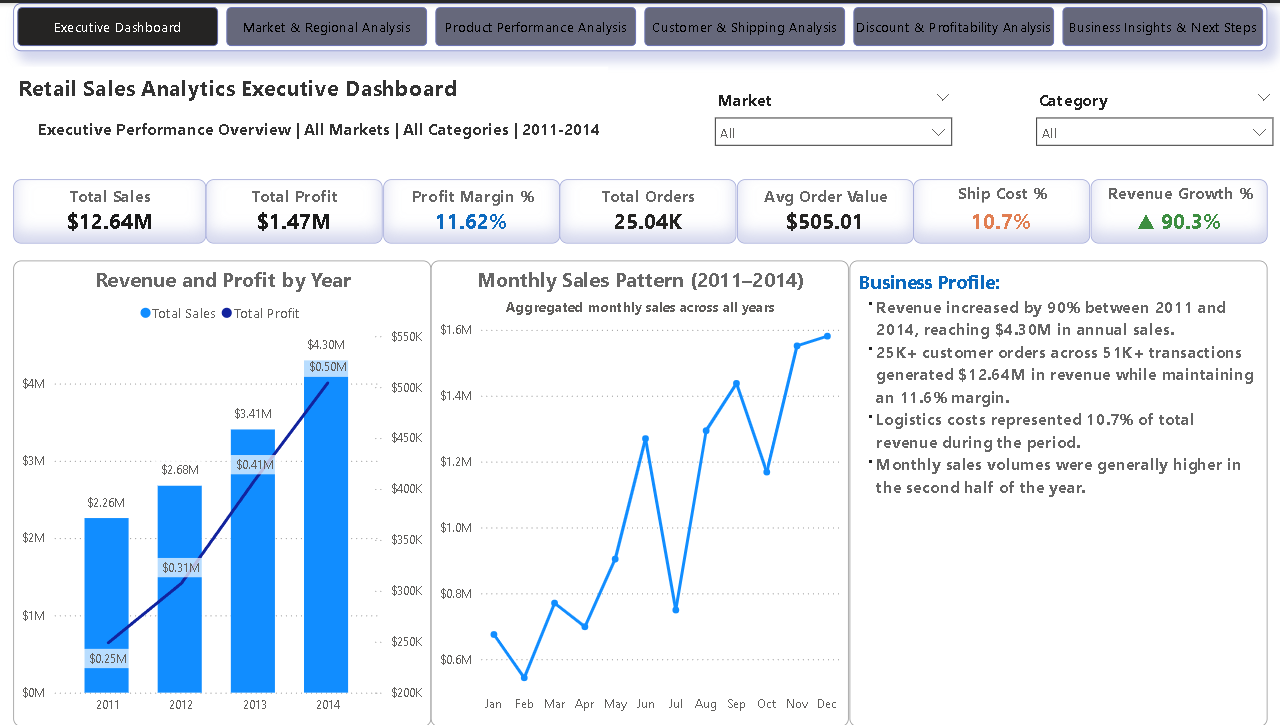

The page's visual inventory and layout, read from the dashboard file:
{"tool":"powerbi","page":{"name":"Executive Dashboard","canvas":[1280,720],"ordinal":0},"visuals":[{"type":"card","title":"Total Sales","fields":{"Values":["in.Total sales"]},"box":[16,176,192,64],"z":0},{"type":"card","title":"Total Profit","fields":{"Values":["in.Total Profit"]},"box":[208,176,176,64],"z":1000},{"type":"card","title":"Profit Margin %","fields":{"Values":["in.Profit Margin %"]},"box":[384,176,176,64],"z":2000},{"type":"card","title":"Total Orders","fields":{"Values":["in.Total Orders"]},"box":[560,176,176,64],"z":3000},{"type":"card","title":"Avg Order Value","fields":{"Values":["in.Average Order Value"]},"box":[736,176,176,64],"z":4000},{"type":"card","title":"Ship Cost %","fields":{"Values":["in.Shipping Cost %"]},"box":[912,176,176,64],"z":5000},{"type":"lineClusteredColumnComboChart","title":"Revenue and Profit by Year","fields":{"Category":["in.year"],"Y":["in.Total sales"],"Y2":["in.Total Profit"]},"box":[16,256,416,464],"z":6000},{"type":"lineChart","title":"Monthly Sales Pattern (2011–2014)","fields":{"Category":["in.Month Short"],"Y":["Measure.Total Sales"]},"box":[432,256,416,464],"z":7000},{"type":"pageNavigator","box":[16,0,1248,48],"z":8000},{"type":"card","fields":{"Values":["RetailSales.Dashboard Context"]},"box":[16,112,608,32],"z":9000},{"type":"textbox","box":[16,64,592,48],"z":10000},{"type":"slicer","fields":{"Values":["RetailSales.market"]},"box":[704,80,256,64],"z":11000},{"type":"slicer","fields":{"Values":["RetailSales.category"]},"box":[1024,80,256,64],"z":12000},{"type":"card","title":"Revenue Growth %","fields":{"Values":["Measure.Revenue Growth Display"]},"box":[1088,176,176,64],"z":13000},{"type":"textbox","box":[848,256,416,464],"z":14000}]}

Visuals, with their boxes in screenshot pixels (x1, y1, x2, y2), scaled from the page's 1280x720 canvas onto the 1280x725 screenshot:
"Total Sales" card: BBox(16, 177, 208, 242)
"Total Profit" card: BBox(208, 177, 384, 242)
"Profit Margin %" card: BBox(384, 177, 560, 242)
"Total Orders" card: BBox(560, 177, 736, 242)
"Avg Order Value" card: BBox(736, 177, 912, 242)
"Ship Cost %" card: BBox(912, 177, 1088, 242)
"Revenue and Profit by Year" lineClusteredColumnComboChart: BBox(16, 258, 432, 724)
"Monthly Sales Pattern (2011–2014)" lineChart: BBox(432, 258, 848, 724)
pageNavigator: BBox(16, 0, 1264, 48)
card - RetailSales.Dashboard Context: BBox(16, 113, 624, 145)
textbox: BBox(16, 64, 608, 113)
slicer - RetailSales.market: BBox(704, 81, 960, 145)
slicer - RetailSales.category: BBox(1024, 81, 1279, 145)
"Revenue Growth %" card: BBox(1088, 177, 1264, 242)
textbox: BBox(848, 258, 1264, 724)
